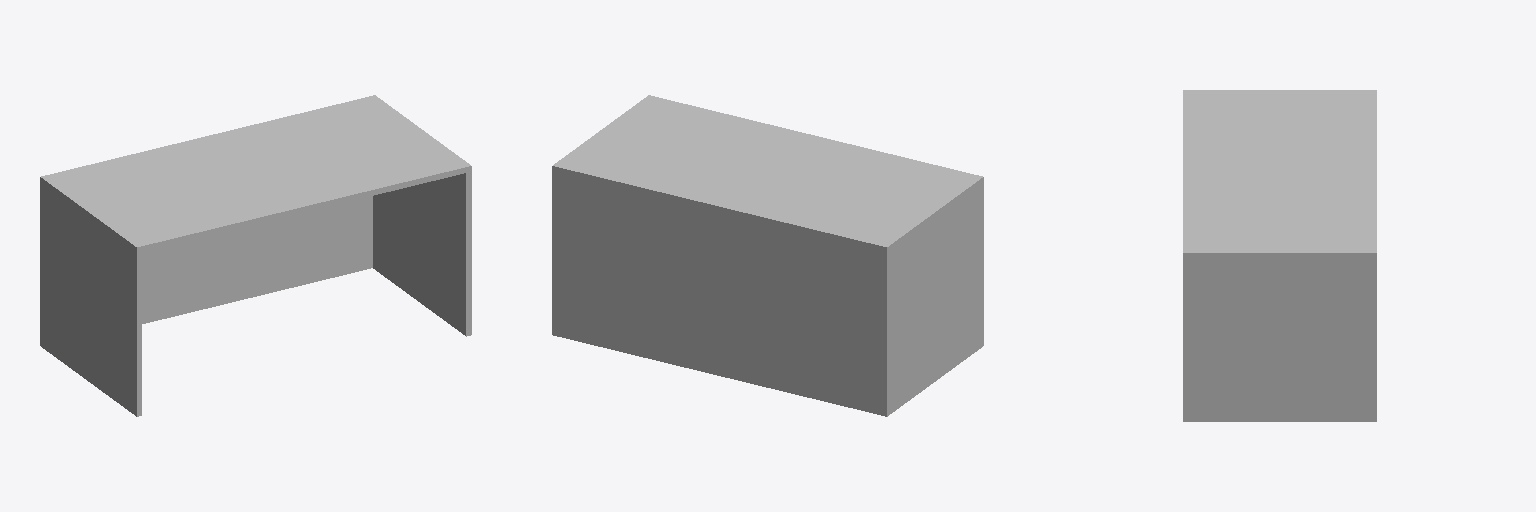
Rendered from Table1.obj.
3 renders of one model, left to right at view 1: azimuth 30°, elevation 25°; view 2: azimuth 150°, elevation 25°; view 3: azimuth 270°, elevation 25°, orthographic.
Visible parts, largest first — view 1: Plane, Cube.002_Cube.004, Cube.001_Cube.003, Cube_Cube.002; view 2: Cube.002_Cube.004, Plane, Cube.001_Cube.003, Cube_Cube.002; view 3: Plane, Cube_Cube.002.
Part boxes in pixels (bbox=[...]): Plane: bbox=[40, 95, 471, 252]; Cube.002_Cube.004: bbox=[142, 196, 372, 323]; Cube.001_Cube.003: bbox=[40, 183, 141, 416]; Cube_Cube.002: bbox=[373, 172, 471, 336]; Cube.002_Cube.004: bbox=[558, 173, 881, 415]; Plane: bbox=[552, 95, 983, 252]; Cube.001_Cube.003: bbox=[882, 183, 983, 416]; Cube_Cube.002: bbox=[552, 172, 557, 336]; Plane: bbox=[1183, 90, 1376, 258]; Cube_Cube.002: bbox=[1183, 259, 1376, 421].
Bounding box in the file's own units: 1.52 × 0.7366 × 0.762.